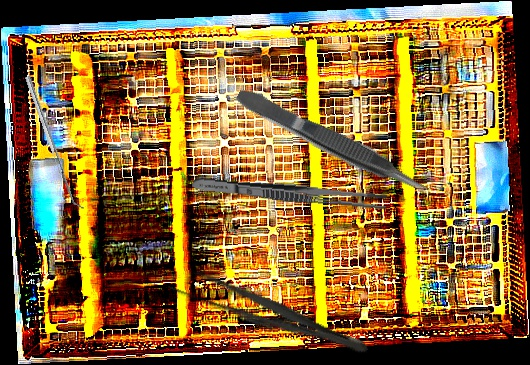Dressing Forceps: (165, 262, 374, 365), (191, 174, 388, 211)
Spatula Surgical: (24, 73, 85, 213)
Tissue Forceps: (233, 80, 434, 204)
